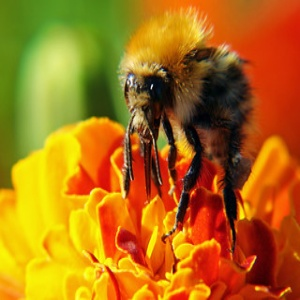bee: (118, 3, 262, 262)
